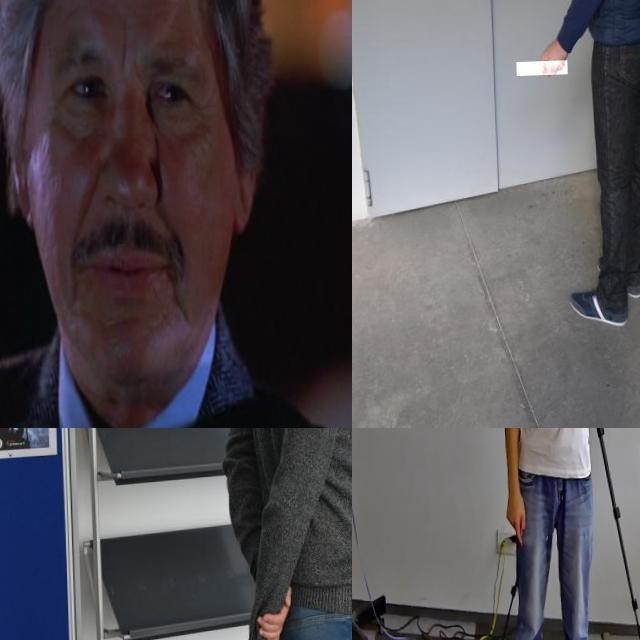-: (516, 62, 566, 78)
gun-knife-thesis - v11 Yolov5 augmented: (0, 0, 60, 428), (550, 428, 571, 459)
